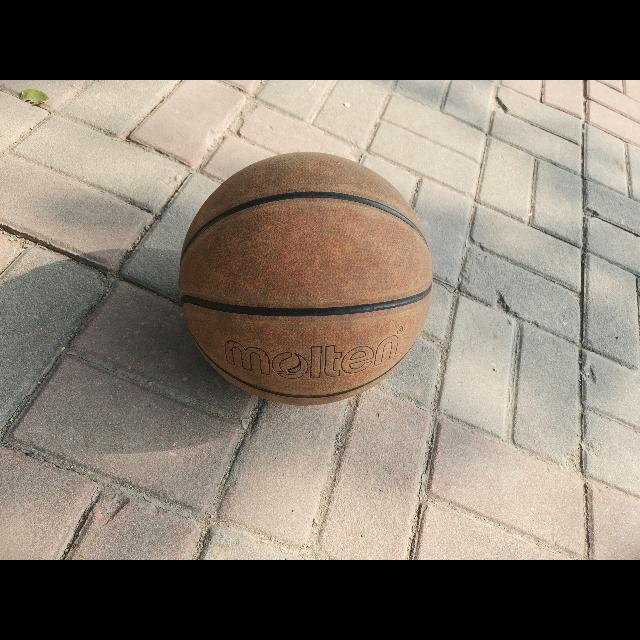basketball: (180, 152, 430, 404)
